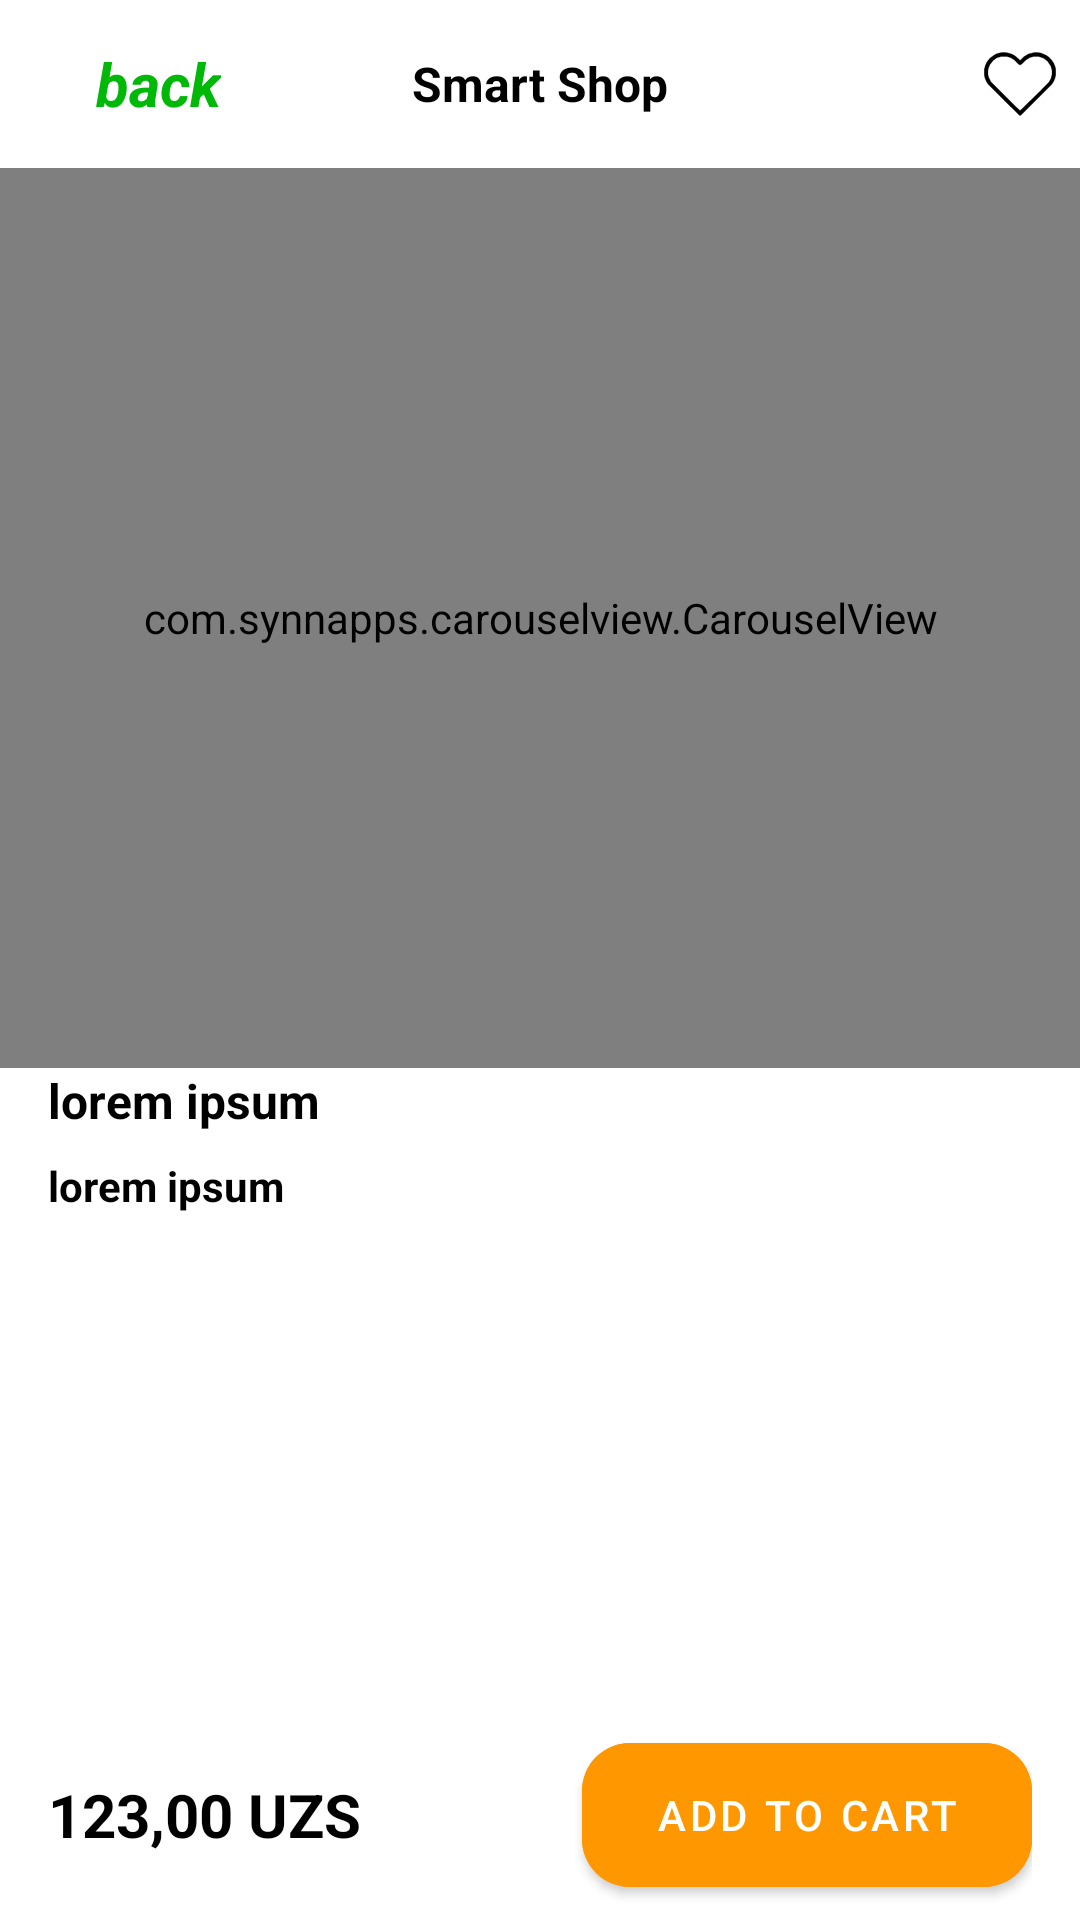

Named icons in this screenshot (1080 x 1920) and their centers, (x,y):
favorite: (1020,84)
